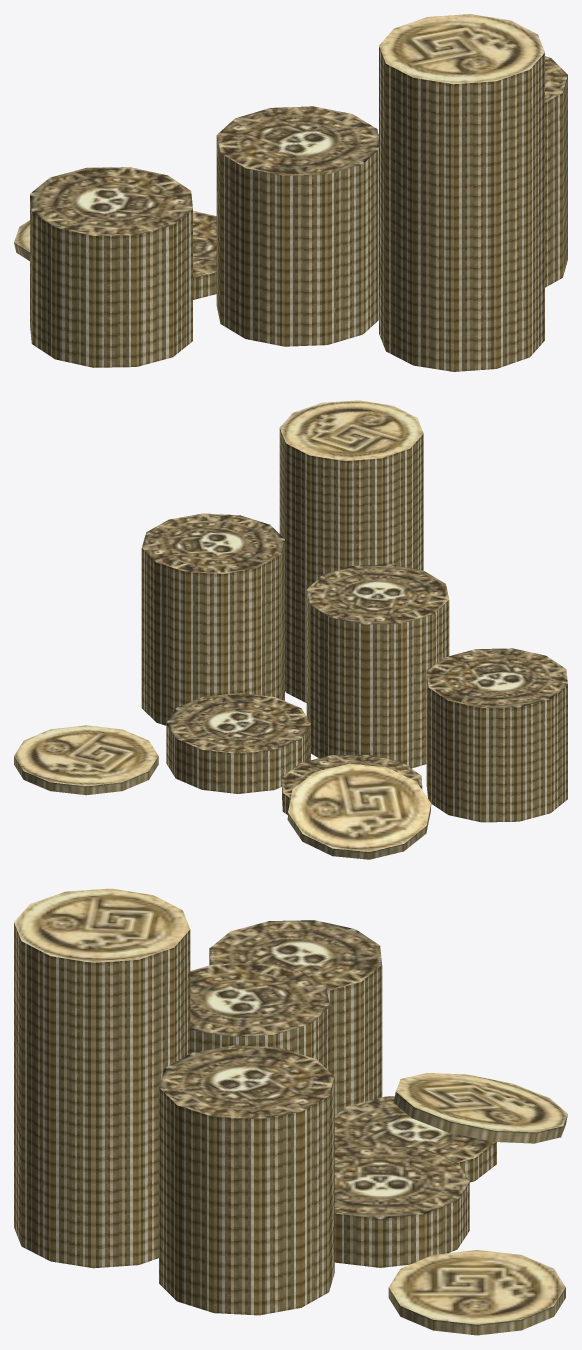
Rendered from prop_coinstack_large.fbx.
3 views of the same model, one above another, from view 1: azimuth 30°, elevation 25°; view 2: azimuth 150°, elevation 25°; view 3: azimuth 270°, elevation 25° (orthographic). The views are drawn at different scales.
Parts seen in each view (by area): view 1: coin_mesh5, coin_mesh7, coin_mesh8, coin_mesh6, coin_mesh1, coin_mesh4; view 2: coin_mesh6, coin_mesh5, coin_mesh7, coin_mesh8, coin_mesh, coin_mesh4, coin_mesh3, coin_mesh1; view 3: coin_mesh5, coin_mesh6, coin_mesh, coin_mesh8, coin_mesh3, coin_mesh7, coin_mesh4, coin_mesh1.
Part boxes in pixels (x1=…): coin_mesh5: x1=379, y1=14, x2=544, y2=371; coin_mesh7: x1=216, y1=106, x2=378, y2=346; coin_mesh8: x1=30, y1=167, x2=192, y2=367; coin_mesh6: x1=545, y1=56, x2=567, y2=287; coin_mesh1: x1=193, y1=211, x2=216, y2=299; coin_mesh4: x1=14, y1=220, x2=29, y2=260; coin_mesh6: x1=141, y1=513, x2=284, y2=725; coin_mesh5: x1=279, y1=400, x2=423, y2=702; coin_mesh7: x1=306, y1=564, x2=449, y2=768; coin_mesh8: x1=426, y1=648, x2=567, y2=822; coin_mesh: x1=166, y1=693, x2=310, y2=793; coin_mesh4: x1=287, y1=763, x2=431, y2=859; coin_mesh3: x1=14, y1=725, x2=158, y2=795; coin_mesh1: x1=282, y1=754, x2=422, y2=814; coin_mesh5: x1=14, y1=888, x2=190, y2=1268; coin_mesh6: x1=159, y1=1045, x2=334, y2=1315; coin_mesh: x1=334, y1=1144, x2=469, y2=1267; coin_mesh8: x1=209, y1=920, x2=382, y2=1115; coin_mesh3: x1=388, y1=1250, x2=565, y2=1335; coin_mesh7: x1=190, y1=963, x2=330, y2=1072; coin_mesh4: x1=393, y1=1073, x2=567, y2=1143; coin_mesh1: x1=334, y1=1096, x2=496, y2=1182.
Size of the model in its own units: 46.09 by 23.83 by 39.19.
Materials: 2 (2 with a texture image).
